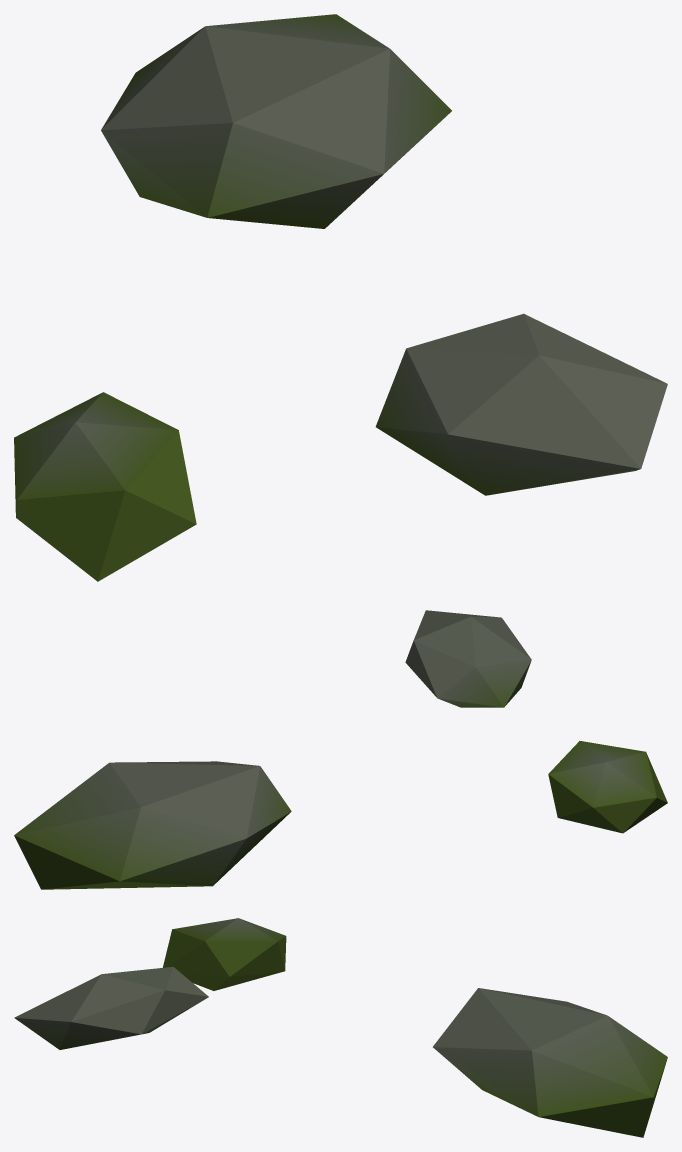
Rendered from Rock_2.glb.
The picture shows the model from 3 angles, top to bottom: view 1: azimuth 30°, elevation 25°; view 2: azimuth 150°, elevation 25°; view 3: azimuth 270°, elevation 25°; orthographic projection. The views are drawn at different scales.
Visible parts, largest first — view 1: Rock_2; view 2: Rock_2; view 3: Rock_2.
Part boxes in pixels (x1,y1,x2,y2): Rock_2: (14,14,667,581); Rock_2: (14,610,667,889); Rock_2: (14,918,667,1137).
Size of the model in its own units: 0.8829 by 0.2164 by 1.23.
